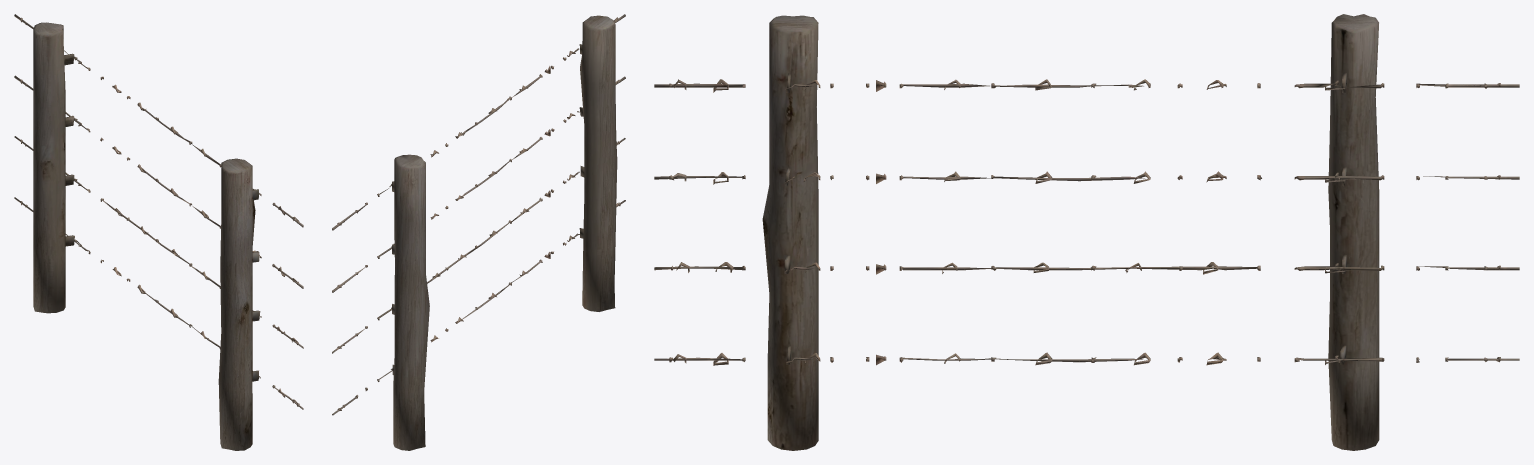
The model's file is javaporcos_mint_mourao.glb.
3 views of the same model, side by side, from view 1: azimuth 30°, elevation 25°; view 2: azimuth 150°, elevation 25°; view 3: azimuth 270°, elevation 25° (orthographic). The views are drawn at different scales.
Visible parts, largest first — view 1: Mourão com arame farpado; view 2: Mourão com arame farpado; view 3: Mourão com arame farpado.
Boxes of the visible parts, x1=… form: Mourão com arame farpado: x1=14, y1=14, x2=303, y2=450; Mourão com arame farpado: x1=332, y1=14, x2=625, y2=450; Mourão com arame farpado: x1=654, y1=14, x2=1519, y2=450.
Bounding box in the file's own units: 0.1857 × 1.3 × 2.43.
Materials: 1 (1 with a texture image).
